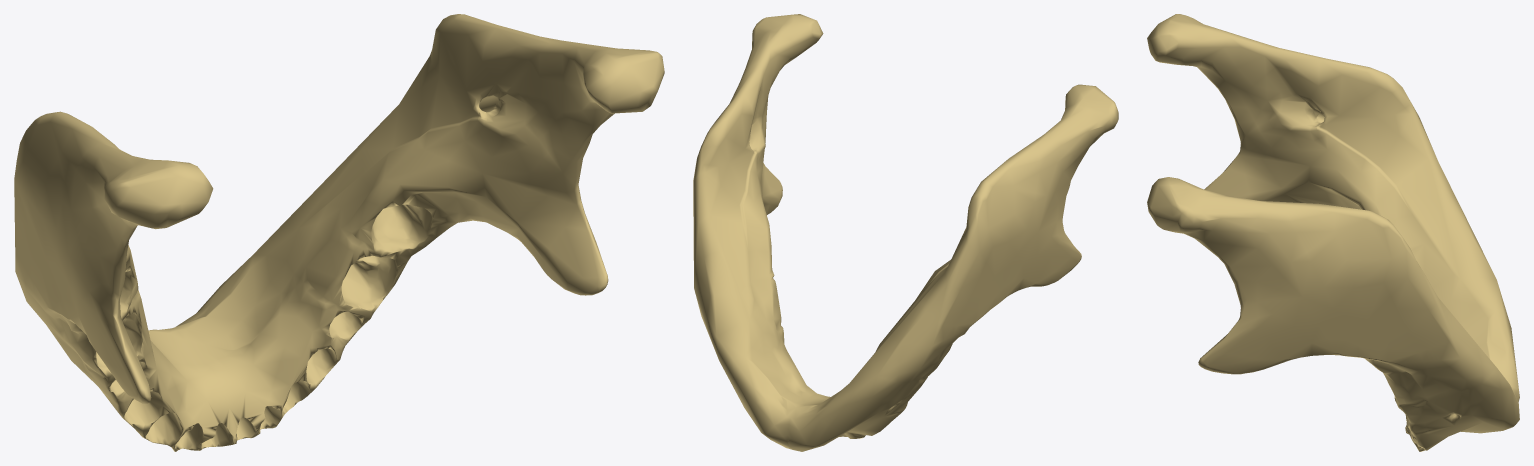
The picture shows the model from 3 angles, left to right: view 1: azimuth 30°, elevation 25°; view 2: azimuth 150°, elevation 25°; view 3: azimuth 270°, elevation 25°; orthographic projection. The views are drawn at different scales.
Visible parts, largest first — view 1: 下颌骨; view 2: 下颌骨; view 3: 下颌骨.
Boxes of the visible parts, x1,y1,x2,y2 form: 下颌骨: [14, 14, 664, 451]; 下颌骨: [693, 14, 1118, 451]; 下颌骨: [1147, 14, 1519, 451].
Size of the model in its own units: 0.1522 by 0.1207 by 0.1213.
